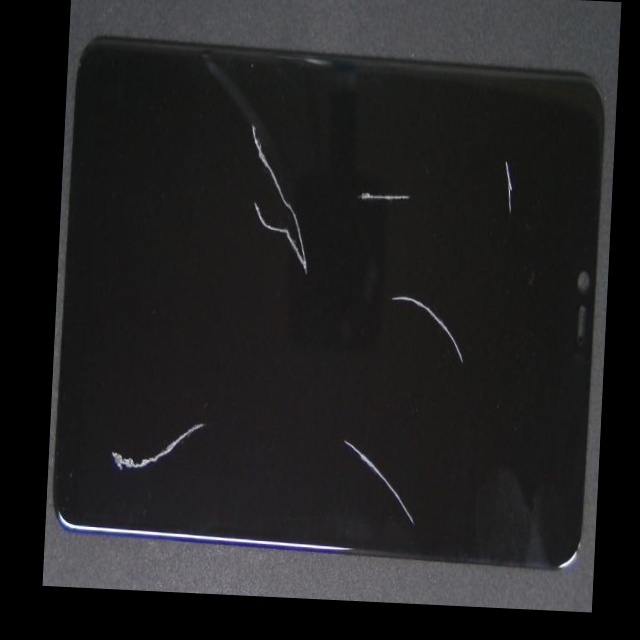scratch: (282, 301, 590, 612), (283, 71, 576, 273)
